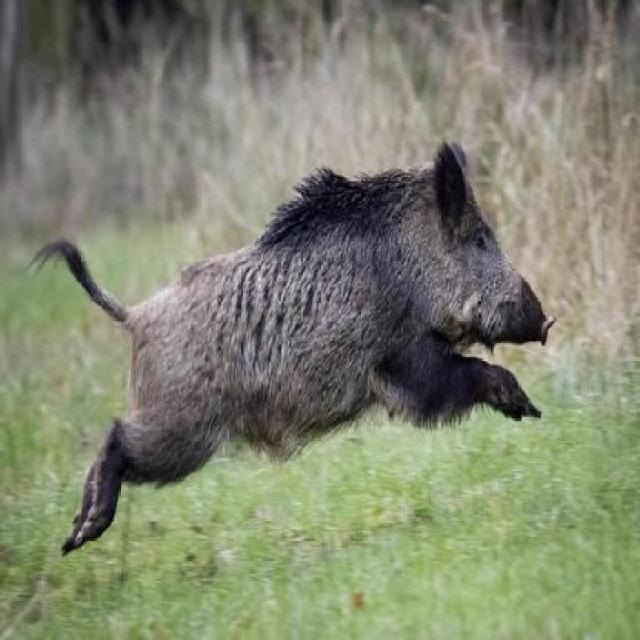wildboar: (22, 132, 558, 565)
